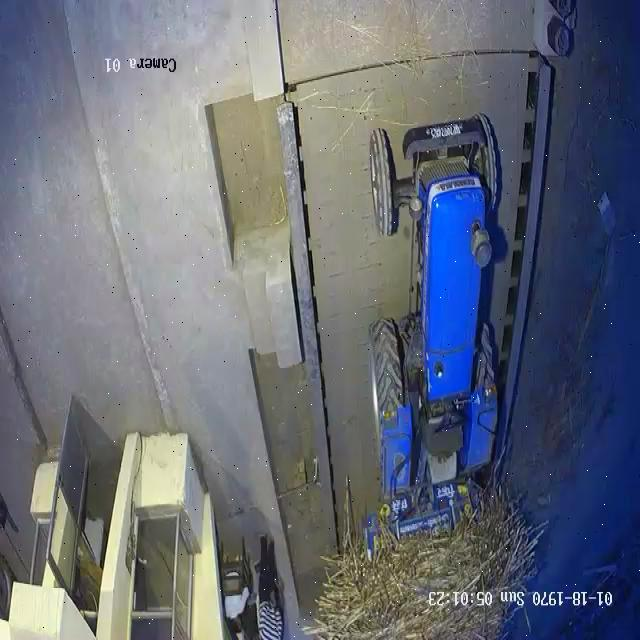Tratores - v5 YOLO V8L 2024-11-13: (370, 110, 498, 488)
